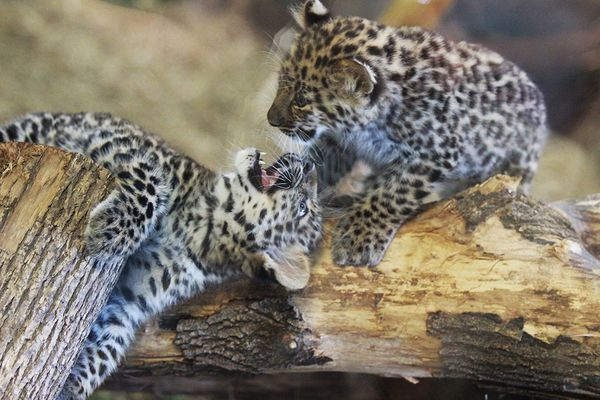amur_leopard: (243, 1, 424, 151), (192, 139, 339, 298)
